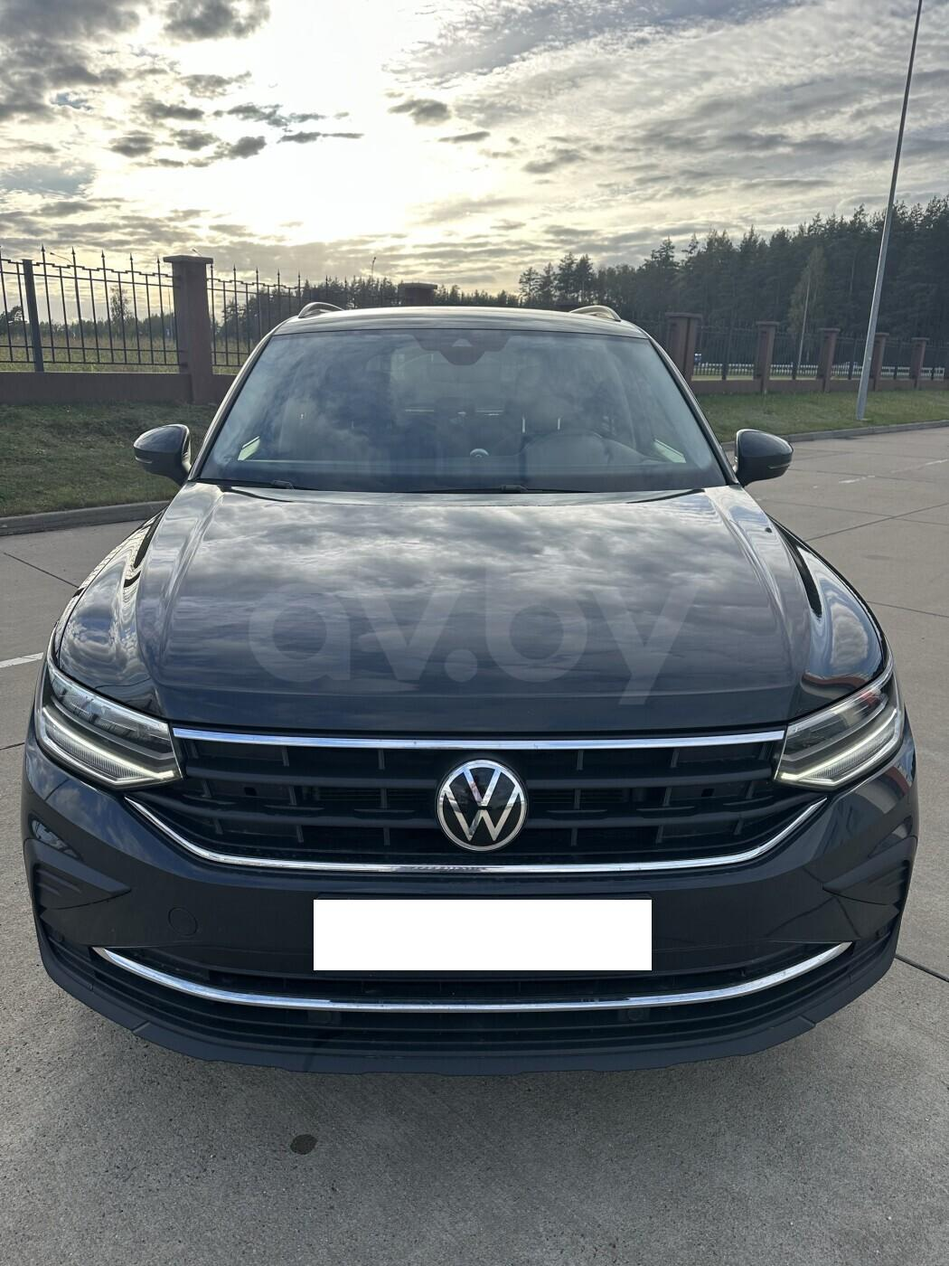Tiguan_2016-2021: (22, 295, 920, 1078)
